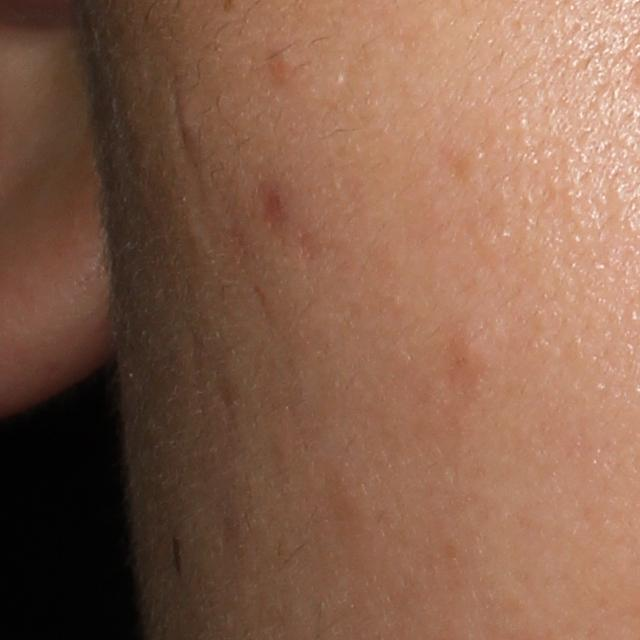comedo: (448, 332, 486, 377)
nevus: (167, 531, 187, 579)
